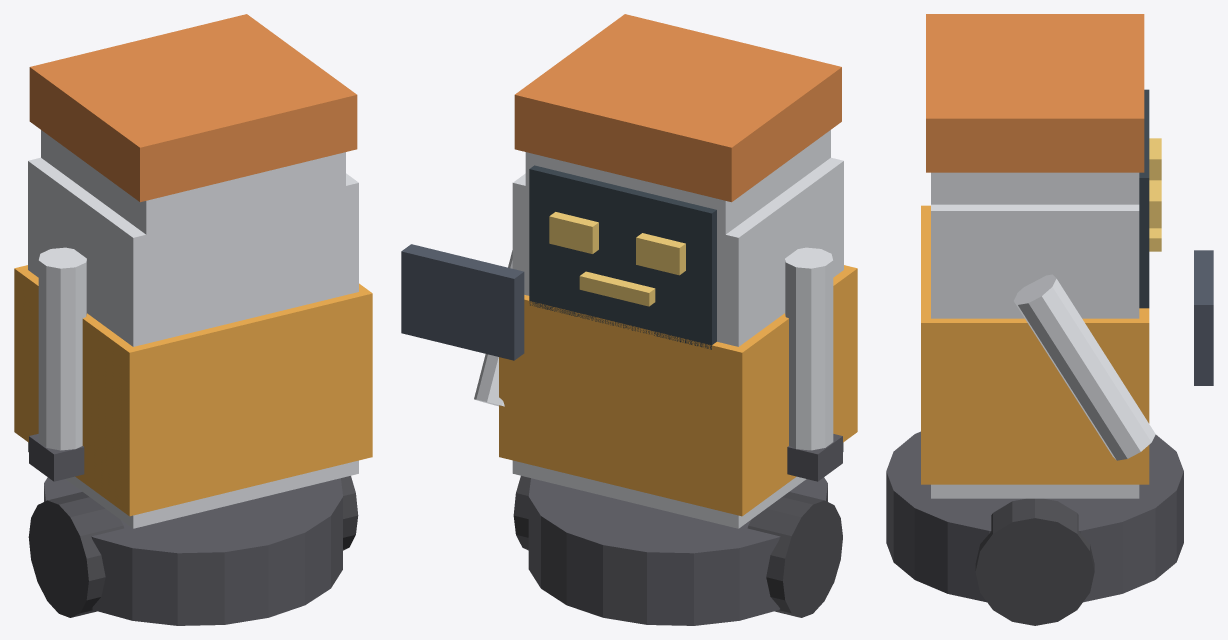
The model's file is SupervisorBot.fbx.
The picture shows the model from 3 angles, left to right: view 1: azimuth 30°, elevation 25°; view 2: azimuth 150°, elevation 25°; view 3: azimuth 270°, elevation 25°; orthographic projection.
Visible parts, largest first — view 1: Vest, Cap, Torso, Base, Head, ArmL, WheelL, Claw, WheelR; view 2: Vest, Cap, Base, Screen, Torso, Tablet, ArmL, WheelL, Head, Claw, EyeL, EyeR (+3 smaller); view 3: Cap, Vest, Torso, Base, WheelR, ArmR, Head, Tablet, Screen, EyeR, EyeL.
Boxes of the visible parts, x1,y1,x2,y2 form: Vest: (14,265,372,516); Cap: (29,14,357,202); Torso: (28,157,358,528); Base: (44,477,342,625); Head: (41,130,345,338); ArmL: (38,247,86,450); WheelL: (28,492,123,617); Claw: (29,434,84,481); WheelR: (341,476,358,550); Vest: (499,265,857,516); Cap: (514,14,841,202); Base: (528,477,827,625); Screen: (529,165,716,349); Torso: (512,157,843,528); Tablet: (401,244,524,360); ArmL: (785,247,833,450); WheelL: (747,492,842,617); Head: (525,130,830,339); Claw: (787,434,842,481); EyeL: (636,233,685,275); EyeR: (549,212,598,253); Cap: (926,14,1144,172); Vest: (921,205,1149,484); Torso: (931,204,1139,498); Base: (886,431,1183,602); WheelR: (975,498,1094,625); ArmR: (1014,274,1155,460); Head: (931,172,1139,204); Tablet: (1194,250,1213,385); Screen: (1139,89,1149,308); EyeR: (1149,180,1161,228); EyeL: (1149,138,1161,180).
Bounding box in the file's own units: 78 × 110 × 66.
